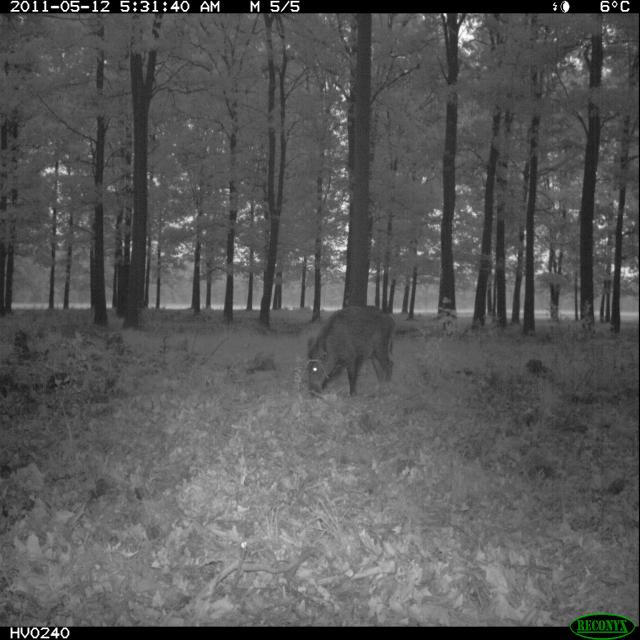boar: (280, 298, 428, 418)
